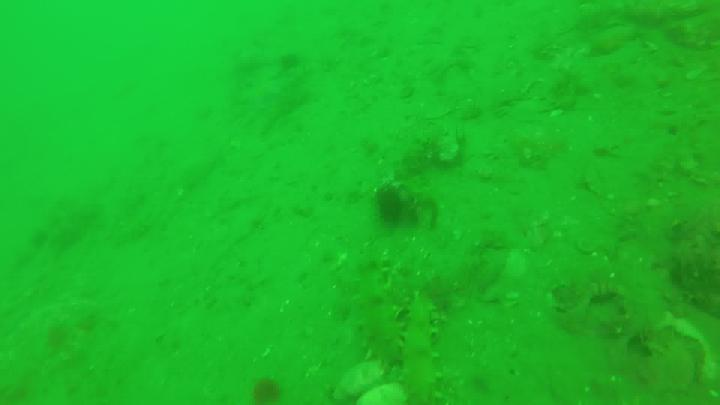echinus: (378, 187, 402, 229), (249, 381, 282, 405)
holothurian: (349, 262, 401, 371), (403, 295, 445, 405)
scallop: (332, 361, 387, 403), (358, 385, 407, 405)
